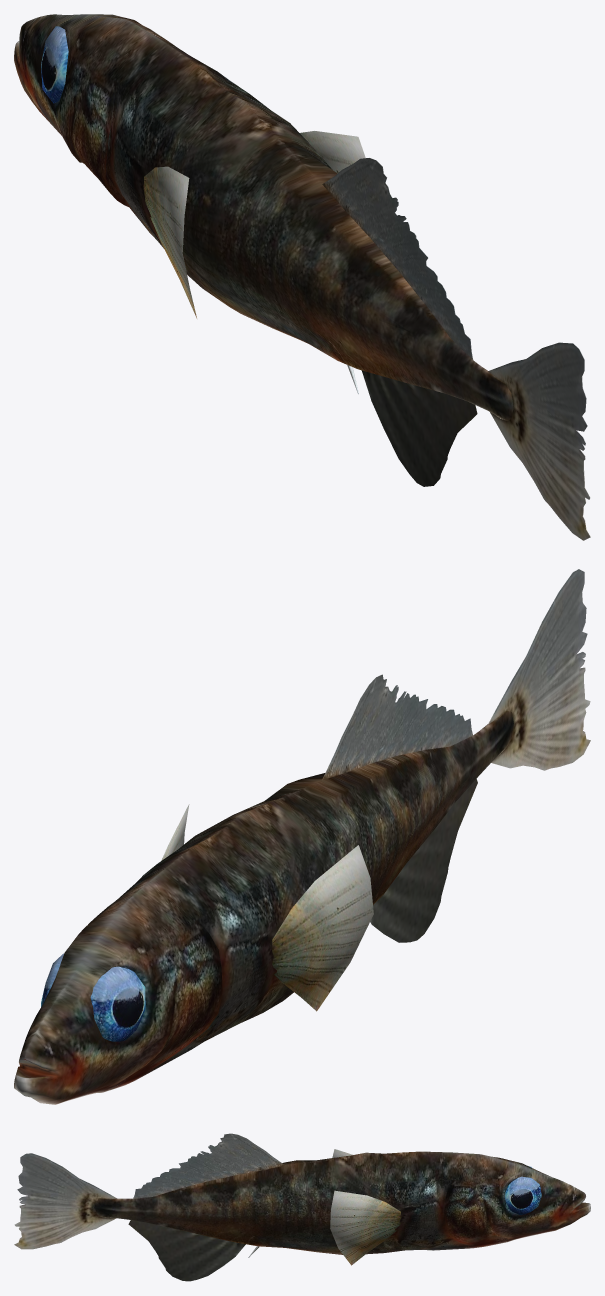
Rendered from stickleback.glb.
3 views of the same model, one above another, from view 1: azimuth 30°, elevation 25°; view 2: azimuth 150°, elevation 25°; view 3: azimuth 270°, elevation 25° (orthographic). The views are drawn at different scales.
Visible parts, largest first — view 1: Circle, Plane, Plane.001, Plane.003, Icosphere; view 2: Circle, Plane, Plane.003, Plane.001, Icosphere; view 3: Circle, Plane, Plane.003, Plane.001, Icosphere.
Part boxes in pixels (x1,y1,x2,y2): Circle: (14, 14, 513, 420); Plane: (322, 158, 590, 540); Plane.001: (361, 370, 477, 486); Plane.003: (143, 131, 365, 318); Icosphere: (41, 26, 68, 103); Circle: (14, 710, 513, 1104); Plane: (322, 569, 590, 780); Plane.003: (161, 804, 373, 1011); Plane.001: (370, 779, 477, 942); Icosphere: (41, 953, 145, 1041); Circle: (94, 1151, 590, 1254); Plane: (14, 1133, 285, 1249); Plane.003: (330, 1149, 401, 1265); Plane.001: (128, 1220, 245, 1281); Icosphere: (504, 1166, 541, 1215).
Bounding box in the file's own units: 0.093 × 0.1361 × 0.4808.
6 materials, 6 textured.
